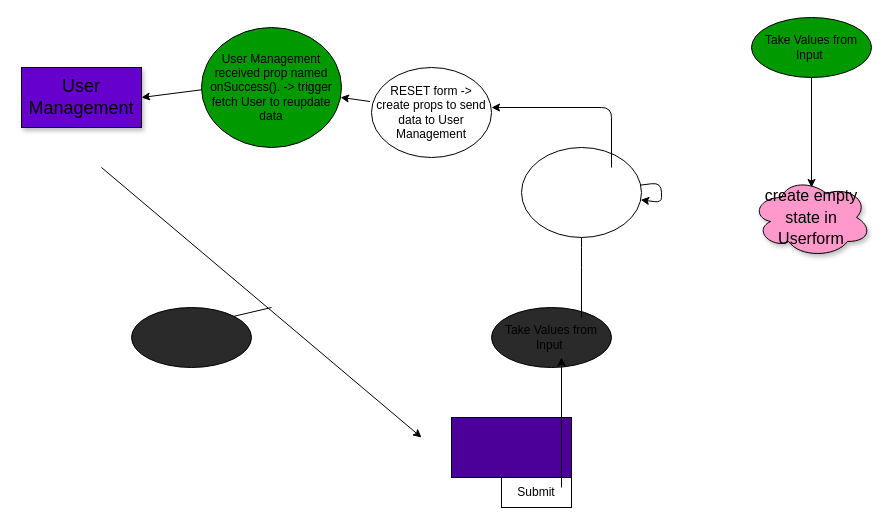
The diagram is 895 pixels wide and 525 high, and some of its shapes have lost their labels. The shapes that lost their labels are listed below. From the top down, each one's centre as x and y in pixels, then its label:
At [581,192]: "Call API right in UserForm -> POST new data to API".
At [191,337]: "Rerender NEW data".
At [511,447]: "UserForm".
